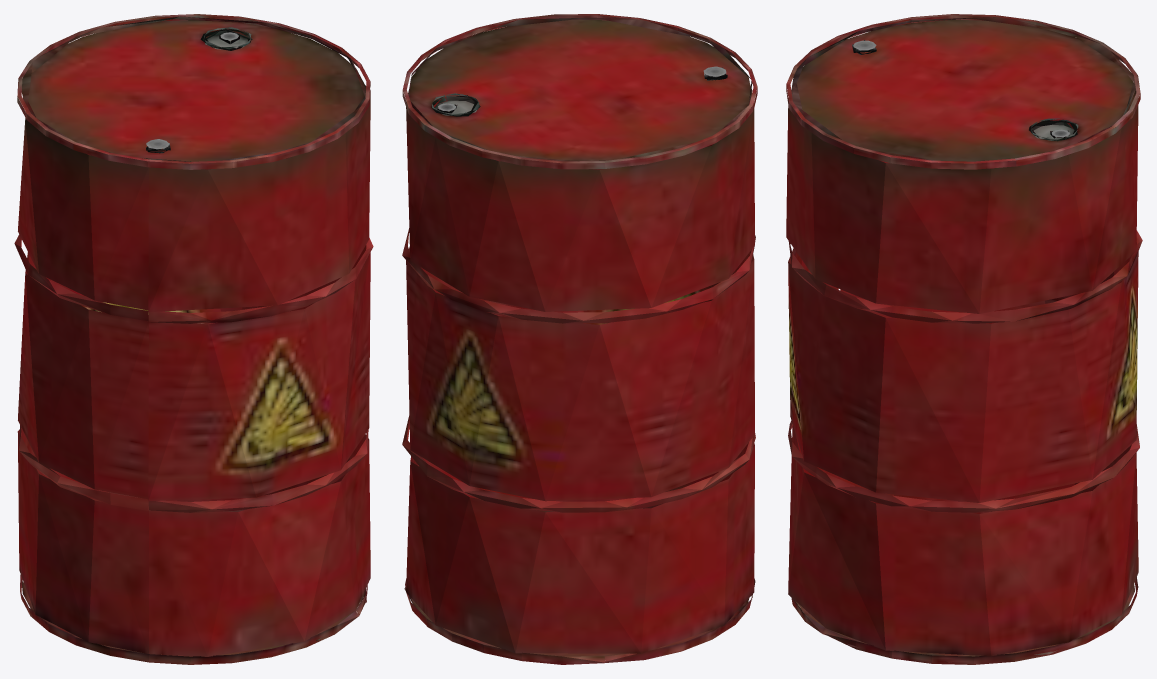
File: Barrel_01.glb
The picture shows the model from 3 angles, left to right: view 1: azimuth 30°, elevation 25°; view 2: azimuth 150°, elevation 25°; view 3: azimuth 270°, elevation 25°; orthographic projection.
Visible parts, largest first — view 1: Barrel_01; view 2: Barrel_01; view 3: Barrel_01.
Boxes of the visible parts, x1,y1,x2,y2 form: Barrel_01: (14, 14, 373, 664); Barrel_01: (402, 14, 757, 664); Barrel_01: (786, 14, 1142, 664).
Bounding box in the file's own units: 0.5644 × 0.8819 × 0.5645.
Materials: 1 (1 with a texture image).
